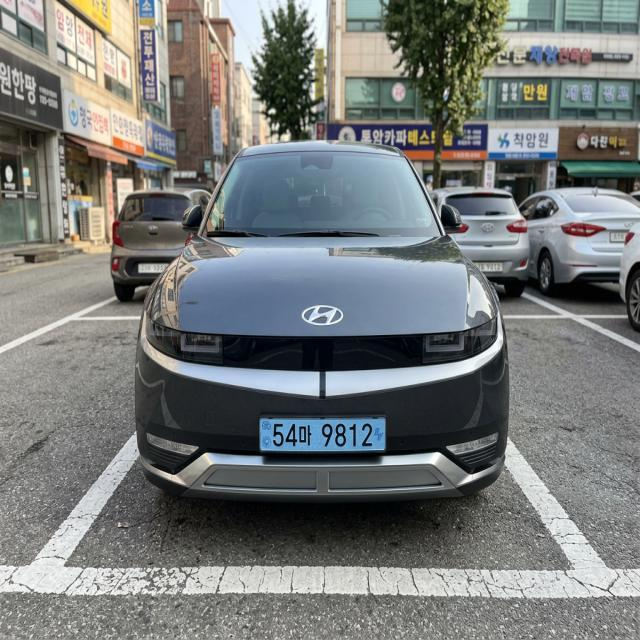car: (239, 412, 402, 465)
carev: (372, 413, 389, 456), (259, 414, 273, 456)
